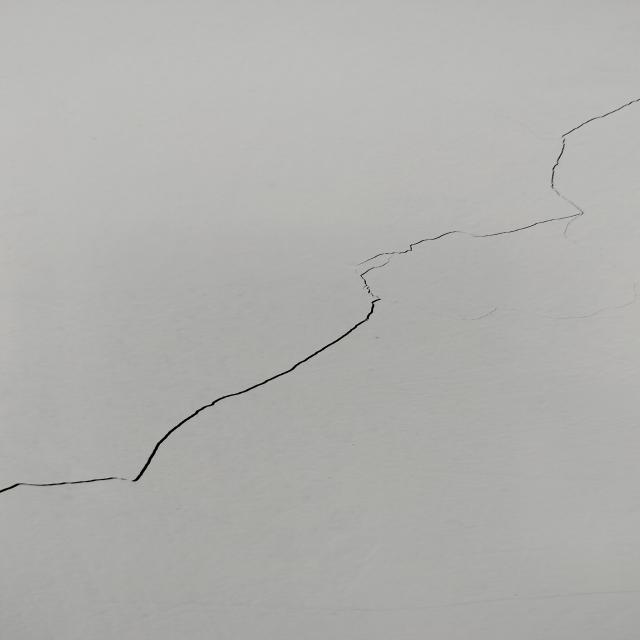Crack: (3, 100, 640, 492)
